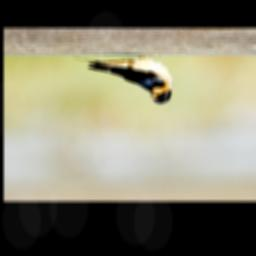Swallow: (71, 52, 173, 104)
